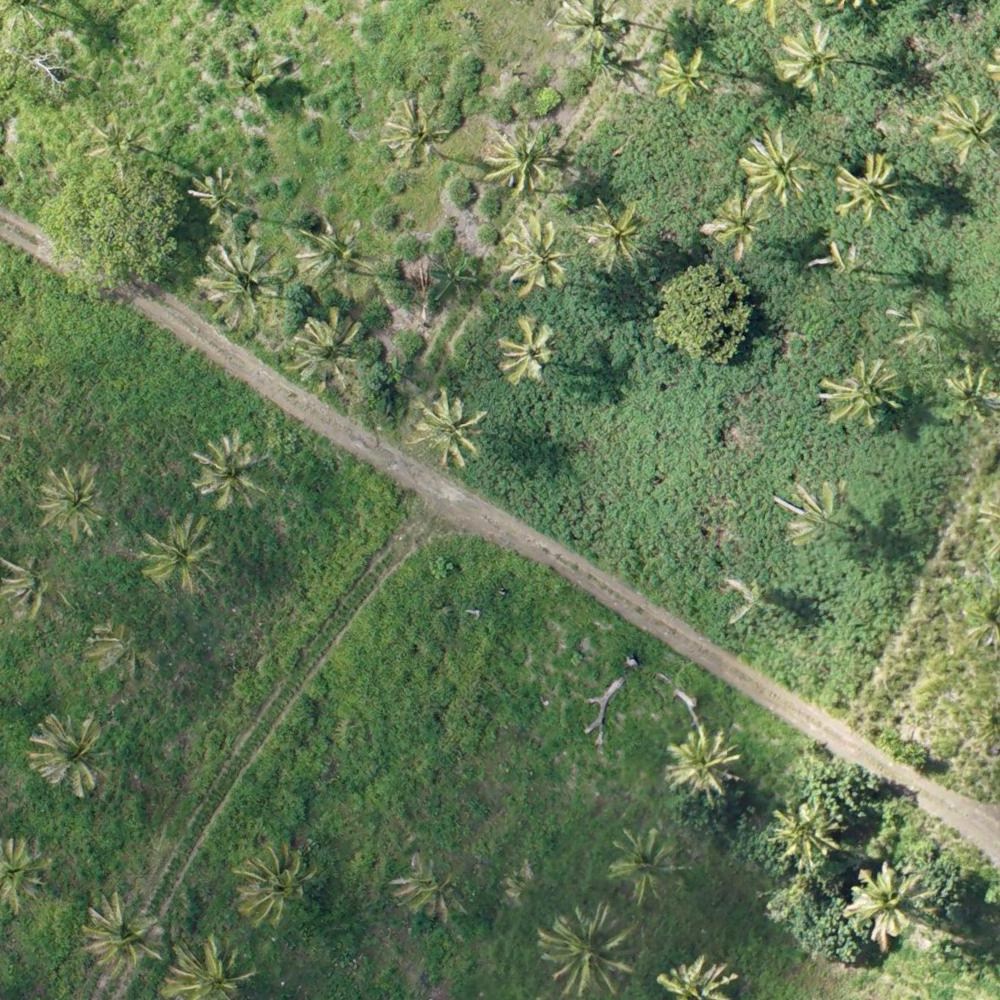Palm: (540, 909, 636, 995), (201, 243, 279, 332), (140, 518, 225, 599), (82, 891, 163, 974), (819, 356, 906, 432), (236, 842, 315, 924), (666, 728, 748, 806), (288, 312, 367, 390), (740, 128, 819, 205), (191, 432, 268, 509), (28, 713, 102, 793), (856, 866, 930, 945), (414, 390, 489, 467), (38, 463, 108, 544), (166, 939, 255, 1000), (498, 216, 572, 289), (488, 122, 561, 192), (835, 150, 903, 224), (614, 831, 684, 902), (549, 1, 630, 61), (578, 198, 648, 267), (933, 88, 1000, 160), (778, 25, 845, 95), (702, 189, 769, 257), (495, 317, 562, 384), (1, 556, 66, 625), (787, 474, 854, 540), (82, 621, 153, 682), (769, 804, 842, 863), (382, 96, 442, 163), (188, 167, 249, 226), (941, 361, 1000, 419), (656, 46, 717, 101)
